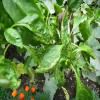Bell_pepper leaf: (17, 14, 53, 46), (75, 76, 93, 99)
